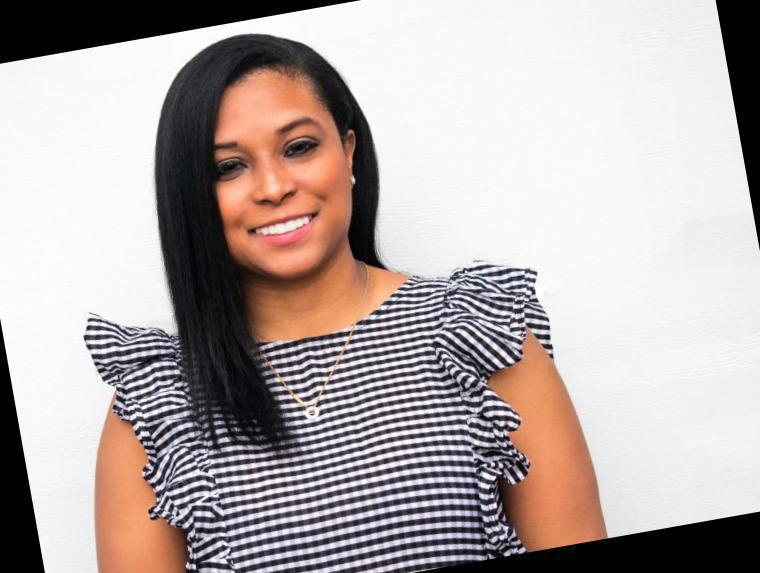Sober: (204, 83, 343, 266)
